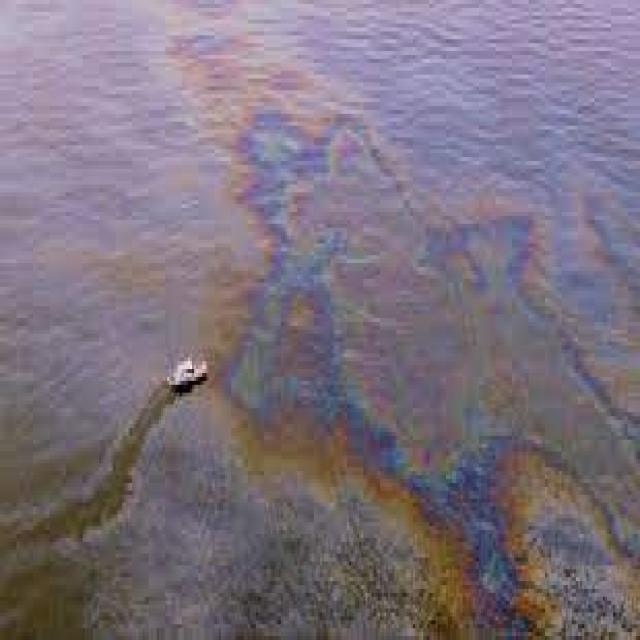rainbow: (229, 75, 640, 640)
